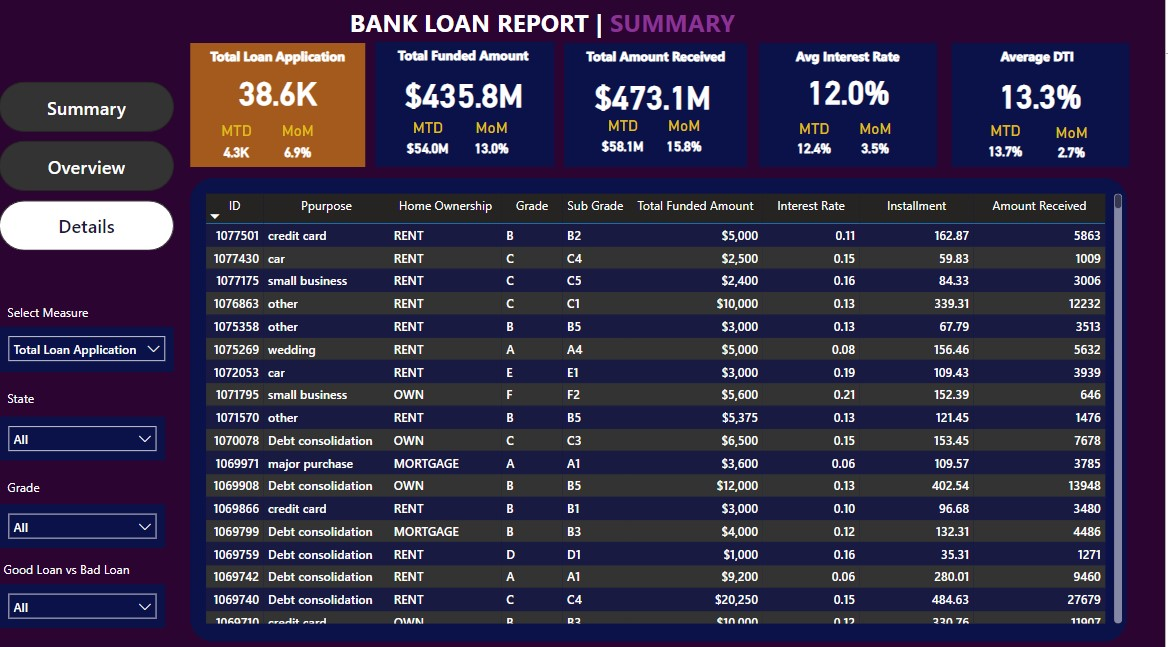

What the dashboard file says about the page in this screenshot:
{"tool":"powerbi","page":{"name":"Details","canvas":[1280,720],"ordinal":2},"visuals":[{"type":"shape","box":[209.9,197.6,1027.8,509.1],"z":1000},{"type":"shape","box":[211.4,50,184.9,133.5],"z":2000,"group":"g1"},{"type":"shape","box":[413,52,194.9,133.1],"z":2000,"group":"g2"},{"type":"shape","box":[623.7,79.4,194.9,105.2],"z":2000,"group":"g3"},{"type":"shape","box":[1045.6,80.9,194.9,103.5],"z":2000,"group":"g5"},{"type":"shape","box":[834.3,84,194.9,101.2],"z":2000,"group":"g4"},{"type":"textbox","box":[380.1,4.1,462.4,46.7],"z":3000},{"type":"group","id":"g1","title":"Group 1","box":[209.9,49.4,192.1,135.8],"z":4000},{"type":"card","fields":{"Values":["bank_loan.Total Loan Application"]},"box":[209.9,79.3,192.1,45.6],"z":4000,"group":"g1"},{"type":"card","fields":{"Values":["bank_loan.Average Interset Rate"]},"box":[836.6,79.7,190.7,43.3],"z":4000,"group":"g4"},{"type":"card","fields":{"Values":["bank_loan.Total Fund"]},"box":[413.2,81.2,194.9,48],"z":4000,"group":"g2"},{"type":"card","fields":{"Values":["Sum(bank_loan.total_payment)"]},"box":[620.2,81.7,194.9,48],"z":4000,"group":"g3"},{"type":"card","fields":{"Values":["bank_loan.Avg DTI"]},"box":[1047.5,82.5,192.1,46.1],"z":4000,"group":"g5"},{"type":"textbox","box":[413.2,48.3,196.2,41.2],"z":5000,"group":"g2"},{"type":"textbox","box":[621.3,48.8,199,28.8],"z":5000,"group":"g3"},{"type":"textbox","box":[209.9,49.4,192.1,42.7],"z":5000,"group":"g1"},{"type":"textbox","box":[838,49.4,186.6,33.2],"z":5000,"group":"g4"},{"type":"textbox","box":[1046.1,49.4,192.1,33.1],"z":5000,"group":"g5"},{"type":"textbox","box":[4.1,425.4,192.1,30.2],"z":5000},{"type":"group","id":"g2","title":"Group 1","box":[413,48.3,196.4,136.8],"z":6000},{"type":"card","title":"MTD","fields":{"Values":["bank_loan.MTD Amount Received"]},"box":[644.3,130,79.6,49.2],"z":6000,"group":"g3"},{"type":"card","title":"MTD","fields":{"Values":["bank_loan.MTD Funded Amount"]},"box":[430.5,132.1,79.6,43.9],"z":6000,"group":"g2"},{"type":"card","title":"MTD","fields":{"Values":["bank_loan.MTD Average int_rate"]},"box":[855,132.7,79.6,47.3],"z":6000,"group":"g4"},{"type":"card","title":"MTD","fields":{"Values":["bank_loan.MTD LOAN APPLICATION"]},"box":[220.6,135.7,79.4,49.6],"z":6000,"group":"g1"},{"type":"card","title":"MTD","fields":{"Values":["bank_loan.MTD DTI"]},"box":[1065.3,136.2,79.6,47.6],"z":6000,"group":"g5"},{"type":"group","id":"g3","title":"Group 1","box":[620.2,48.8,200,135.8],"z":7000},{"type":"card","title":"MoM","fields":{"Values":["bank_loan.MOM Amount Received"]},"box":[711.5,130,79.6,49.2],"z":7000,"group":"g3"},{"type":"card","title":"MoM","fields":{"Values":["bank_loan.MOM Fund Amount"]},"box":[500.5,132.1,79.6,43.9],"z":7000,"group":"g2"},{"type":"card","title":"MoM","fields":{"Values":["bank_loan.MOM Average Int Rate"]},"box":[922.2,132.7,79.6,47.3],"z":7000,"group":"g4"},{"type":"card","title":"MoM","fields":{"Values":["bank_loan.MOM loan Application"]},"box":[287.7,135.7,79.4,49.6],"z":7000,"group":"g1"},{"type":"card","title":"MoM","fields":{"Values":["bank_loan.MOM Avg DTI"]},"box":[1138,137.6,79.6,47.6],"z":7000,"group":"g5"},{"type":"group","id":"g4","title":"Group 1","box":[834.3,49.4,194.9,135.8],"z":8000},{"type":"group","id":"g5","title":"Group 1","box":[1045.6,49.4,194.9,135.8],"z":9000},{"type":"slicer","fields":{"Values":["bank_loan.address_state"]},"box":[0,459.1,182.5,48],"z":11000},{"type":"textbox","box":[4.1,522.9,192.1,30.2],"z":12000},{"type":"slicer","fields":{"Values":["bank_loan.grade"]},"box":[0,555.2,182.5,48],"z":13000},{"type":"slicer","fields":{"Values":["bank_loan.Good Loan vs Bad Loan"]},"box":[0,643,182.5,48],"z":14000},{"type":"textbox","box":[0,612.8,192.1,30.2],"z":15000},{"type":"slicer","fields":{"Values":["Select Measure.Select Measure"]},"box":[0,360.9,192.1,49.4],"z":16000},{"type":"textbox","box":[4.1,330.7,192.1,30.2],"z":17000},{"type":"tableEx","fields":{"Values":["bank_loan.id","bank_loan.purpose","bank_loan.home_ownership","bank_loan.grade","bank_loan.sub_grade","bank_loan.Total Funded Amount","Sum(bank_loan.int_rate)","Sum(bank_loan.installment)","bank_loan.Total Amount Received"]},"box":[220.9,209.9,1016.8,481.6],"z":17001},{"type":"pageNavigator","box":[0,91.9,192.1,185.2],"z":17002}]}

Visuals, with their boxes in screenshot pixels (x1, y1, x2, y2), scaled from the page's 1280x720 canvas onto the 1168x647 screenshot:
shape: {"left": 192, "top": 178, "right": 1129, "bottom": 635}
shape: {"left": 193, "top": 45, "right": 362, "bottom": 165}
shape: {"left": 377, "top": 47, "right": 555, "bottom": 166}
shape: {"left": 569, "top": 71, "right": 747, "bottom": 166}
shape: {"left": 954, "top": 73, "right": 1132, "bottom": 166}
shape: {"left": 761, "top": 75, "right": 939, "bottom": 166}
textbox: {"left": 347, "top": 4, "right": 769, "bottom": 46}
"Group 1" group: {"left": 192, "top": 44, "right": 367, "bottom": 166}
card - bank_loan.Total Loan Application: {"left": 192, "top": 71, "right": 367, "bottom": 112}
card - bank_loan.Average Interset Rate: {"left": 763, "top": 72, "right": 937, "bottom": 111}
card - bank_loan.Total Fund: {"left": 377, "top": 73, "right": 555, "bottom": 116}
card - Sum(bank_loan.total_payment): {"left": 566, "top": 73, "right": 744, "bottom": 117}
card - bank_loan.Avg DTI: {"left": 956, "top": 74, "right": 1131, "bottom": 116}
textbox: {"left": 377, "top": 43, "right": 556, "bottom": 80}
textbox: {"left": 567, "top": 44, "right": 749, "bottom": 70}
textbox: {"left": 192, "top": 44, "right": 367, "bottom": 83}
textbox: {"left": 765, "top": 44, "right": 935, "bottom": 74}
textbox: {"left": 955, "top": 44, "right": 1130, "bottom": 74}
textbox: {"left": 4, "top": 382, "right": 179, "bottom": 409}
"Group 1" group: {"left": 377, "top": 43, "right": 556, "bottom": 166}
"MTD" card: {"left": 588, "top": 117, "right": 661, "bottom": 161}
"MTD" card: {"left": 393, "top": 119, "right": 465, "bottom": 158}
"MTD" card: {"left": 780, "top": 119, "right": 853, "bottom": 162}
"MTD" card: {"left": 201, "top": 122, "right": 274, "bottom": 167}
"MTD" card: {"left": 972, "top": 122, "right": 1045, "bottom": 165}
"Group 1" group: {"left": 566, "top": 44, "right": 748, "bottom": 166}
"MoM" card: {"left": 649, "top": 117, "right": 722, "bottom": 161}
"MoM" card: {"left": 457, "top": 119, "right": 529, "bottom": 158}
"MoM" card: {"left": 842, "top": 119, "right": 914, "bottom": 162}
"MoM" card: {"left": 263, "top": 122, "right": 335, "bottom": 167}
"MoM" card: {"left": 1038, "top": 124, "right": 1111, "bottom": 166}
"Group 1" group: {"left": 761, "top": 44, "right": 939, "bottom": 166}
"Group 1" group: {"left": 954, "top": 44, "right": 1132, "bottom": 166}
slicer - bank_loan.address_state: {"left": 0, "top": 413, "right": 167, "bottom": 456}
textbox: {"left": 4, "top": 470, "right": 179, "bottom": 497}
slicer - bank_loan.grade: {"left": 0, "top": 499, "right": 167, "bottom": 542}
slicer - bank_loan.Good Loan vs Bad Loan: {"left": 0, "top": 578, "right": 167, "bottom": 621}
textbox: {"left": 0, "top": 551, "right": 175, "bottom": 578}
slicer - Select Measure.Select Measure: {"left": 0, "top": 324, "right": 175, "bottom": 369}
textbox: {"left": 4, "top": 297, "right": 179, "bottom": 324}
tableEx - bank_loan.id x bank_loan.purpose: {"left": 202, "top": 189, "right": 1129, "bottom": 621}
pageNavigator: {"left": 0, "top": 83, "right": 175, "bottom": 249}
